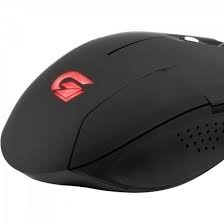mouse: (2, 28, 224, 201)
